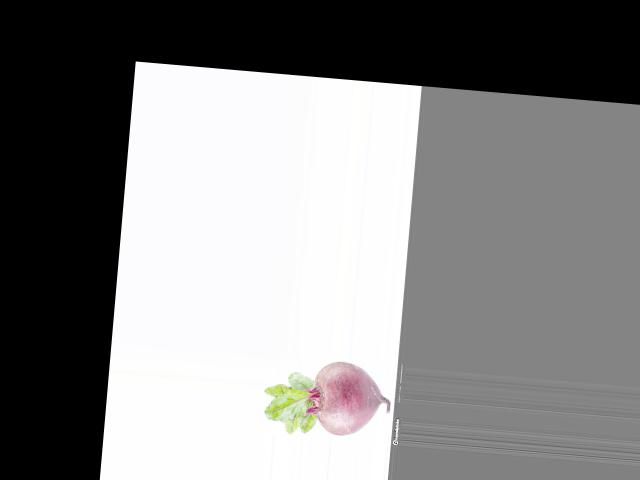beet: (261, 354, 392, 441)
